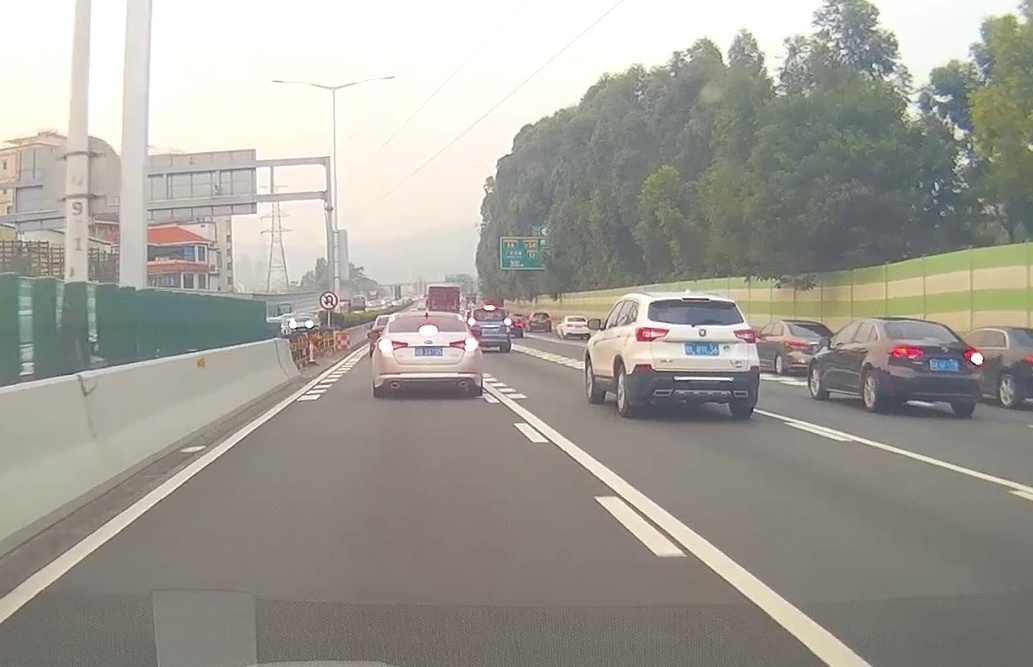L_light: (890, 347, 924, 363), (635, 327, 669, 342), (378, 339, 408, 351)
R_light: (449, 338, 478, 352), (733, 329, 756, 343), (964, 351, 983, 365)
T_light: (681, 297, 710, 302), (418, 325, 438, 332), (922, 336, 940, 341)
day-brake: (371, 311, 484, 397)
day-no: (634, 292, 760, 417)
day-right: (884, 317, 984, 416)
